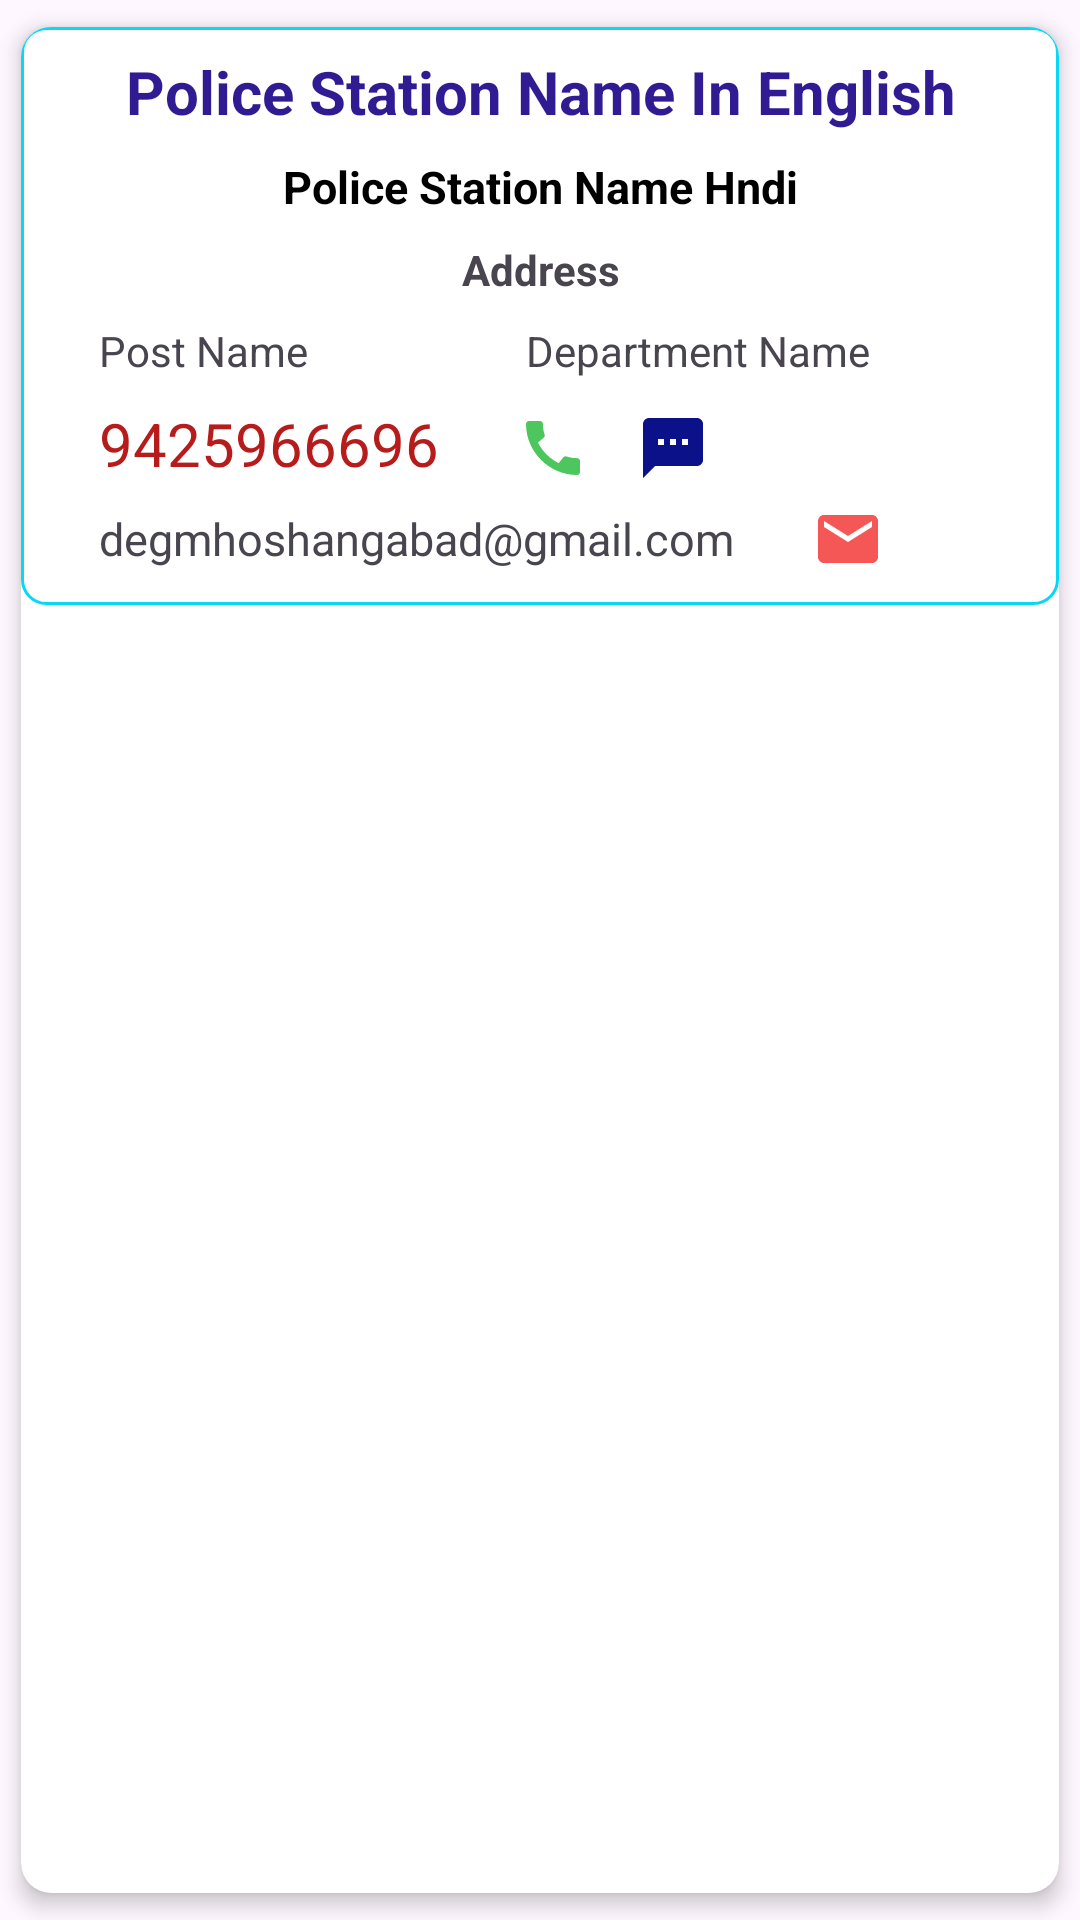

Point at icon controls on the screen. Image size 1080w x 1920h, points as point (x, y).
call: point (553, 448)
email: point (848, 539)
